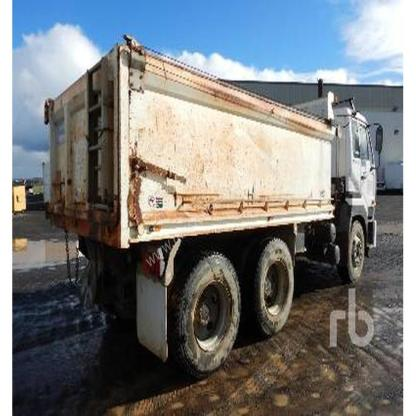dump_truck: (45, 38, 384, 370)
